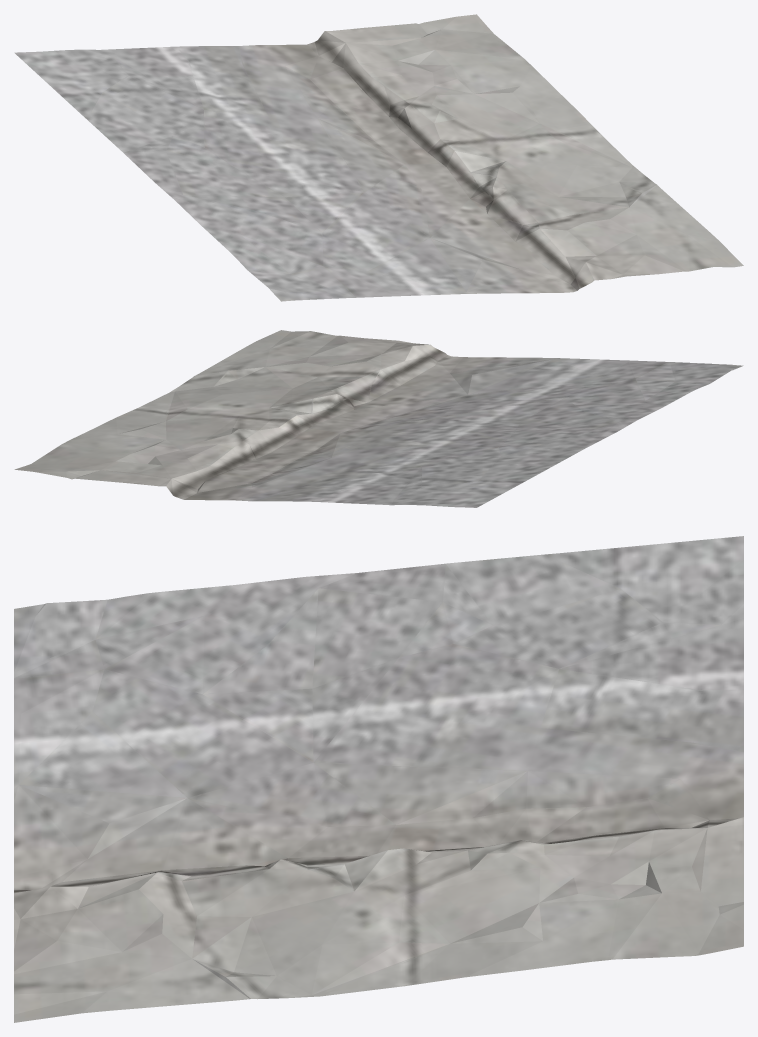
3 renders of one model, top to bottom at view 1: azimuth 30°, elevation 25°; view 2: azimuth 150°, elevation 25°; view 3: azimuth 270°, elevation 25°, orthographic. The views are drawn at different scales.
Size of the model in its own units: 1.67 by 0.4516 by 1.67.
3 materials, 3 textured.
